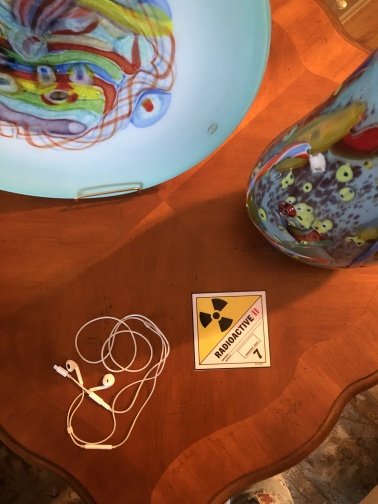Radioactive: (190, 290, 271, 369)
